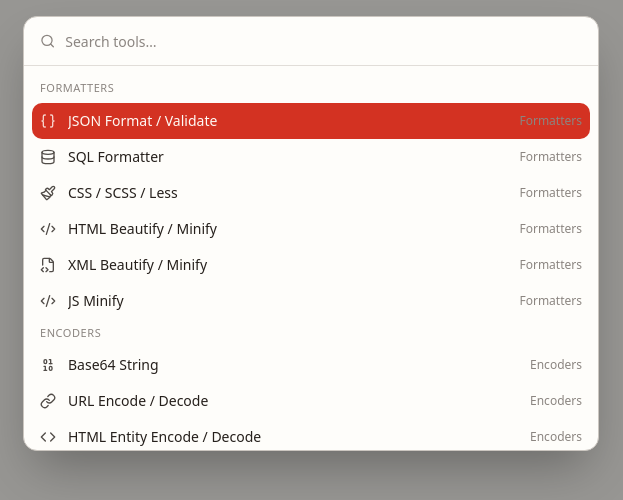
Test case: CommandPalette › filters tools as you type
The width and height of the screenshot is (623, 500).
Type "base" into the dropdown with placeholder "Search tools…" at {"x": 324, "y": 41}, box left=65, top=17, right=582, bottom=65
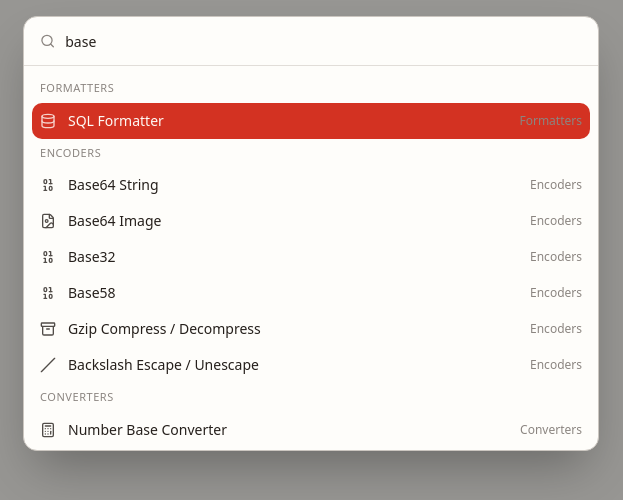
Expected: the text "Base64 String" is shown, left=68, top=175, right=159, bottom=194
Now the option "JSON Format / Validate" is gone
